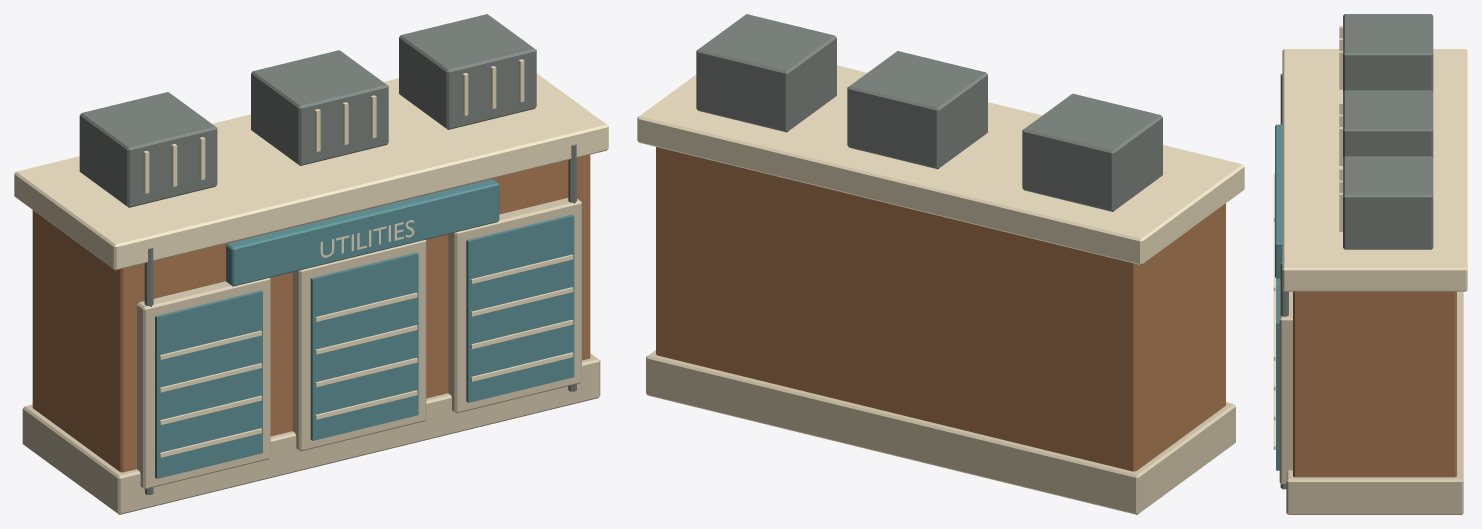
The model's file is hsinchu_utility_hall_v2.glb.
3 renders of one model, left to right at view 1: azimuth 30°, elevation 25°; view 2: azimuth 150°, elevation 25°; view 3: azimuth 270°, elevation 25°, orthographic. The views are drawn at different scales.
Parts seen in each view (by area): view 1: hsinchu_utility_hall_v2__hsinchu-teal, hsinchu_utility_hall_v2__hsinchu-pale-trim, hsinchu_utility_hall_v2__hsinchu-warm-concrete, hsinchu_utility_hall_v2__hsinchu-copper, hsinchu_utility_hall_v2__hsinchu-machinery; view 2: hsinchu_utility_hall_v2__hsinchu-copper, hsinchu_utility_hall_v2__hsinchu-machinery, hsinchu_utility_hall_v2__hsinchu-pale-trim, hsinchu_utility_hall_v2__hsinchu-warm-concrete; view 3: hsinchu_utility_hall_v2__hsinchu-copper, hsinchu_utility_hall_v2__hsinchu-pale-trim, hsinchu_utility_hall_v2__hsinchu-machinery, hsinchu_utility_hall_v2__hsinchu-warm-concrete, hsinchu_utility_hall_v2__hsinchu-teal.
Part boxes in pixels (x1,y1,x2,y2): hsinchu_utility_hall_v2__hsinchu-teal: [155, 179, 574, 478]; hsinchu_utility_hall_v2__hsinchu-pale-trim: [14, 59, 608, 457]; hsinchu_utility_hall_v2__hsinchu-warm-concrete: [22, 198, 600, 514]; hsinchu_utility_hall_v2__hsinchu-copper: [32, 155, 590, 472]; hsinchu_utility_hall_v2__hsinchu-machinery: [79, 14, 576, 494]; hsinchu_utility_hall_v2__hsinchu-copper: [656, 147, 1225, 471]; hsinchu_utility_hall_v2__hsinchu-machinery: [696, 14, 1162, 211]; hsinchu_utility_hall_v2__hsinchu-pale-trim: [637, 65, 1244, 264]; hsinchu_utility_hall_v2__hsinchu-warm-concrete: [646, 350, 1235, 514]; hsinchu_utility_hall_v2__hsinchu-copper: [1293, 291, 1456, 477]; hsinchu_utility_hall_v2__hsinchu-pale-trim: [1273, 26, 1467, 449]; hsinchu_utility_hall_v2__hsinchu-machinery: [1280, 14, 1433, 489]; hsinchu_utility_hall_v2__hsinchu-warm-concrete: [1279, 278, 1463, 514]; hsinchu_utility_hall_v2__hsinchu-teal: [1275, 124, 1282, 470].
Size of the model in its own units: 60.81 by 39.3 by 22.66.
